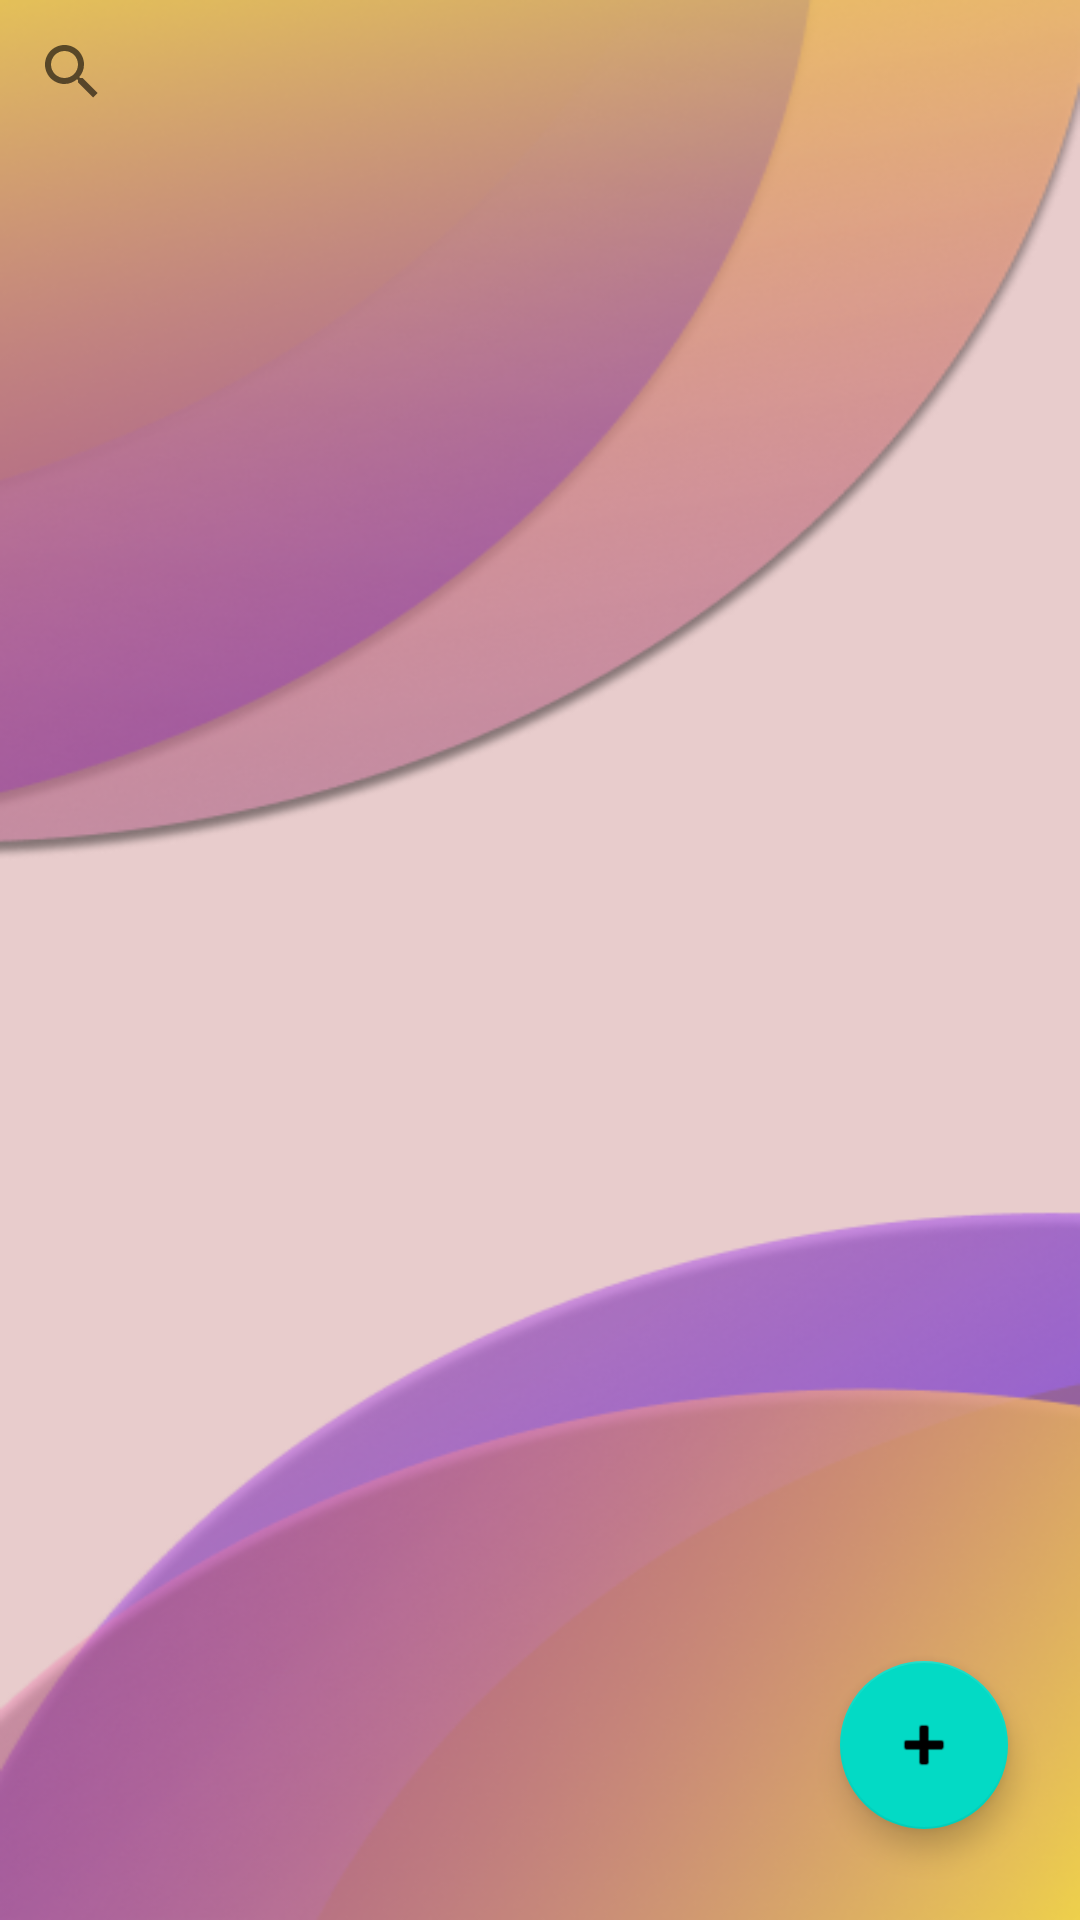

Icons on this 1080x1920 Android screen, each with its box as detection(x1, y1, x2, y2):
add: detection(840, 1661, 1008, 1829)
